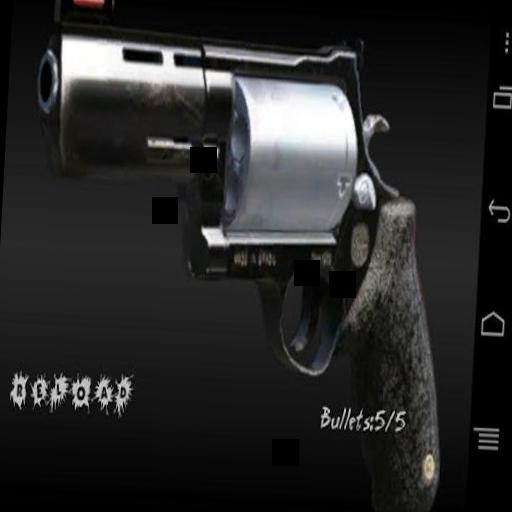Handgun: (19, 0, 463, 512)
